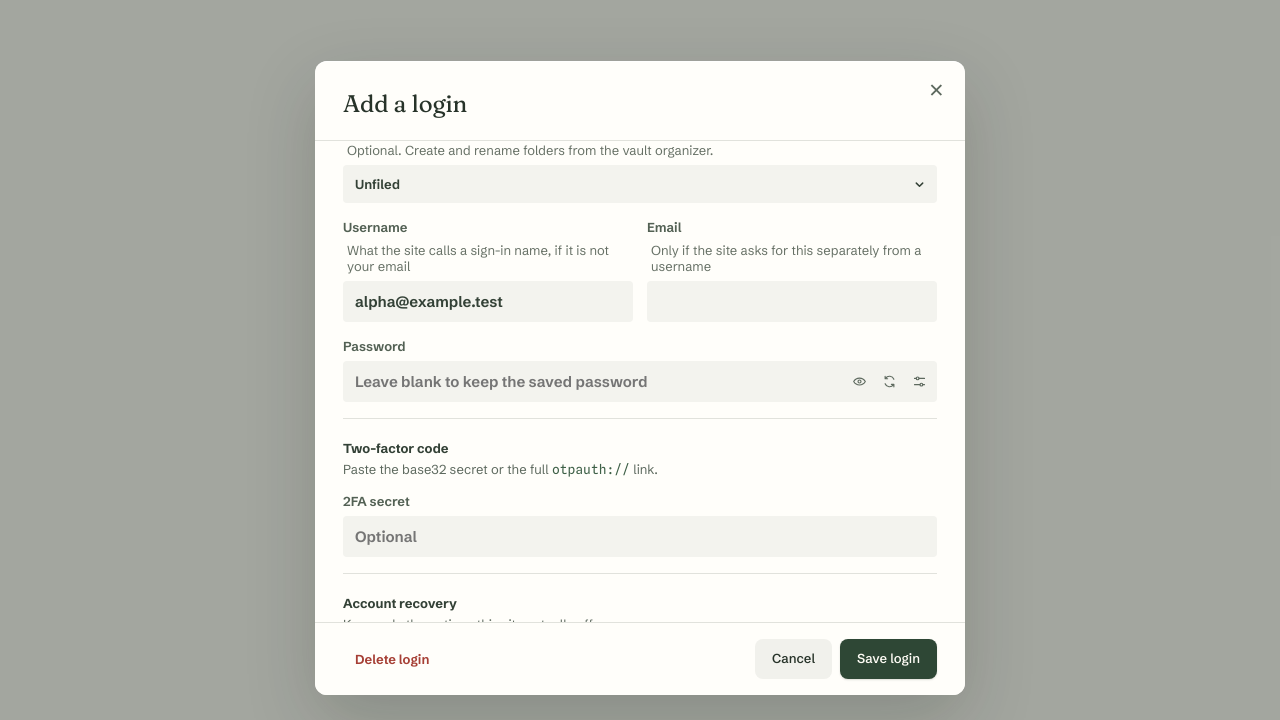
Test: showing a saved password asks the vault again and hiding clears the field
(page scrolled)
Expected: the password field named "login-password" is empty, [343, 361, 937, 402]
Step 1. Click the button named "Show password" → (859, 382), box [845, 368, 873, 396]
(page scrolled)
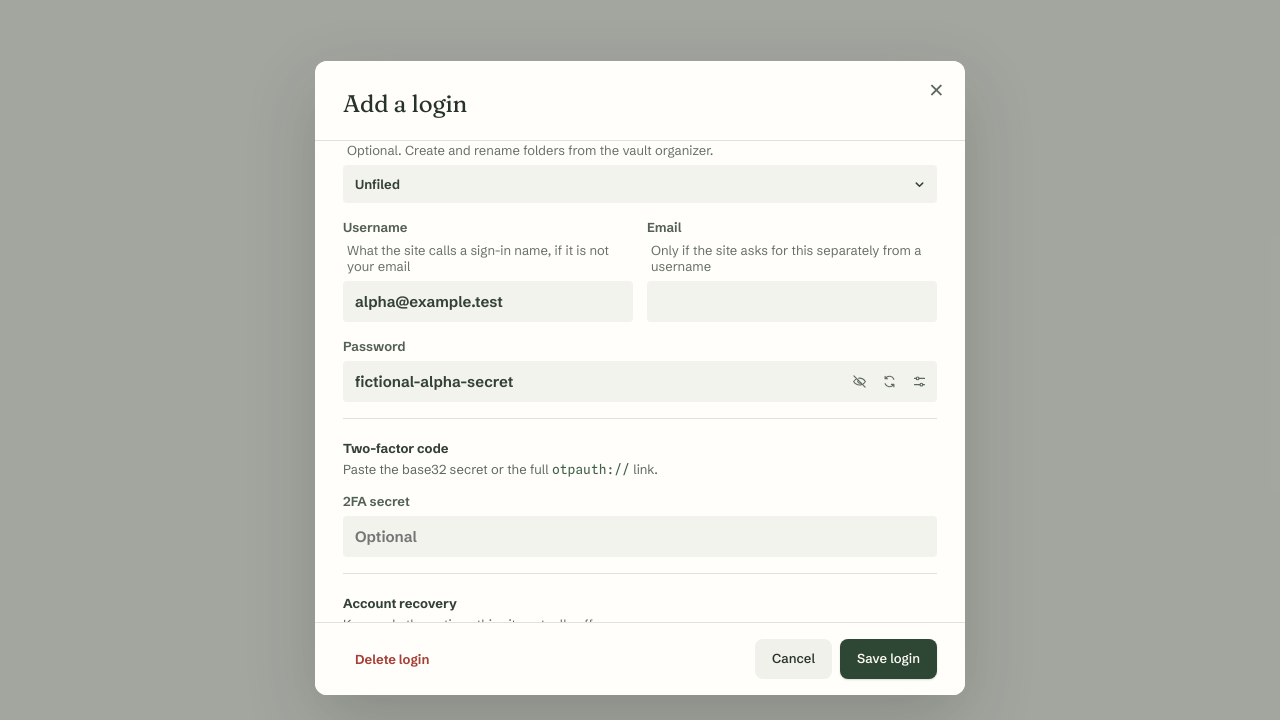
Expected: the field named "login-password" holds "fictional-alpha-secret", [343, 361, 937, 402]
Step 2. Click the button named "Hide password" → (859, 382), box [845, 368, 873, 396]
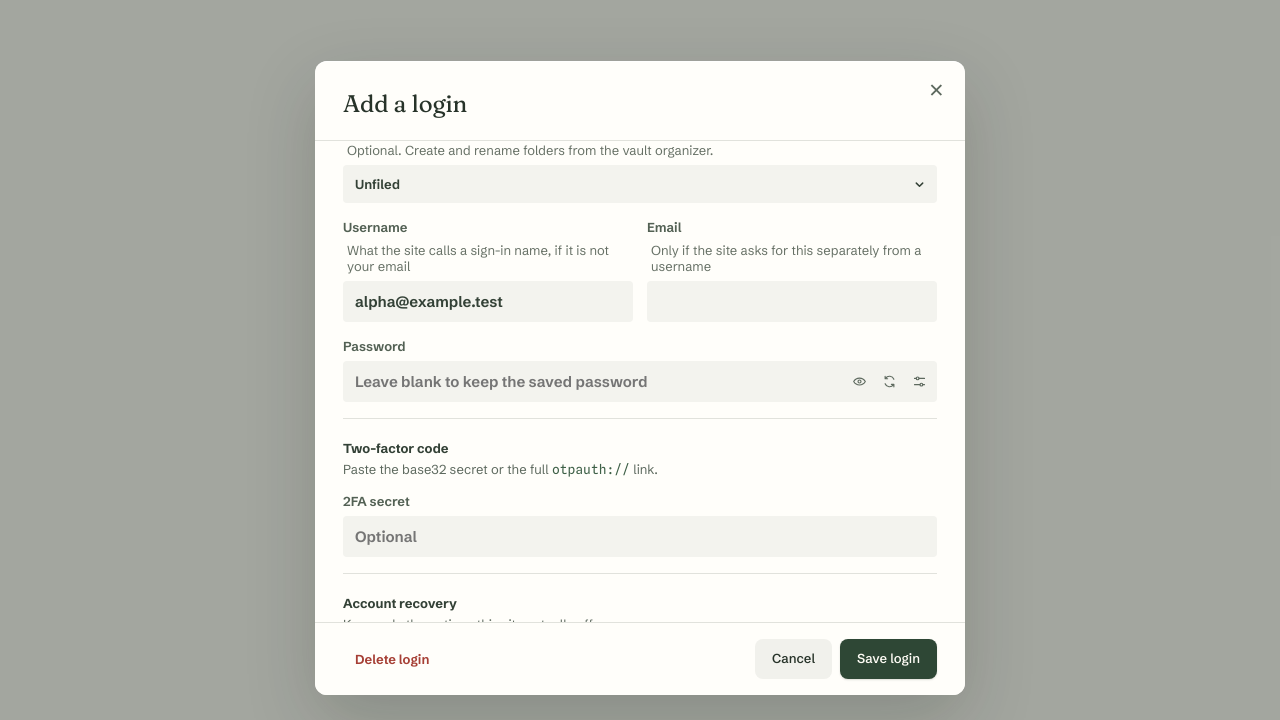
Expected: the password field named "login-password" is empty, [343, 361, 937, 402]
Step 3. Click the button named "Show password" → (859, 382), box [845, 368, 873, 396]
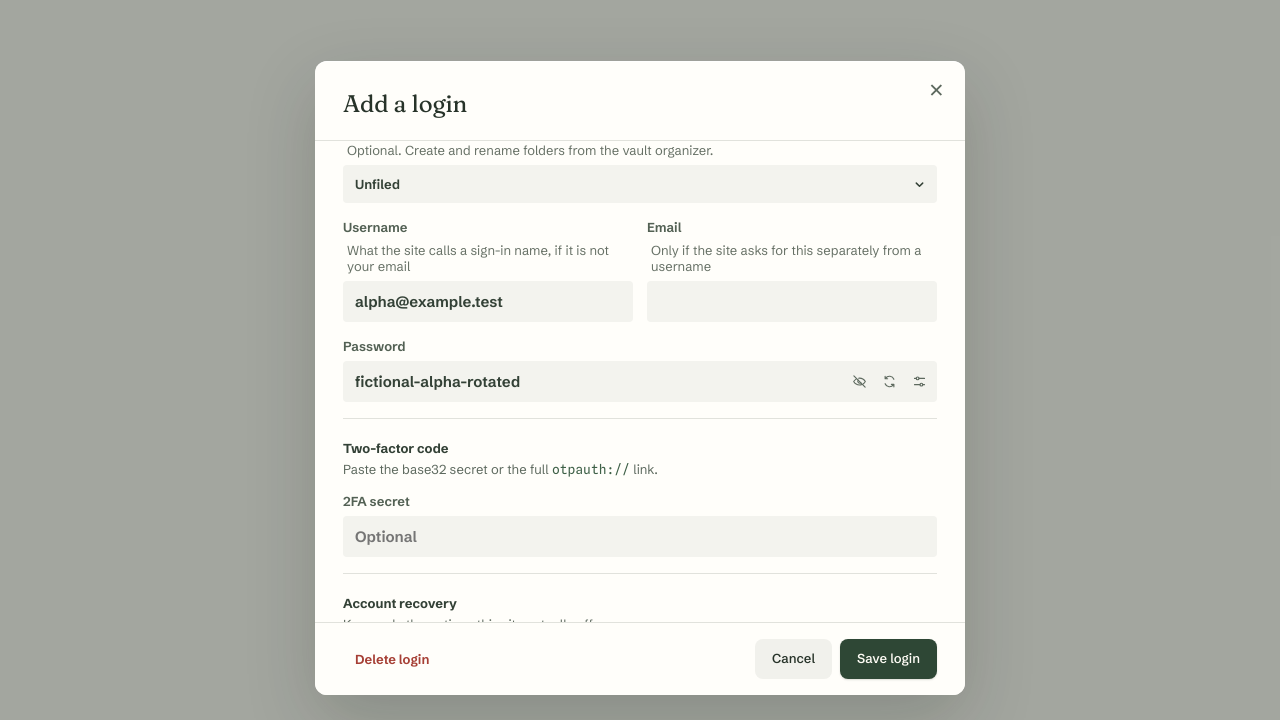
Expected: the field named "login-password" holds "fictional-alpha-rotated", [343, 361, 937, 402]
